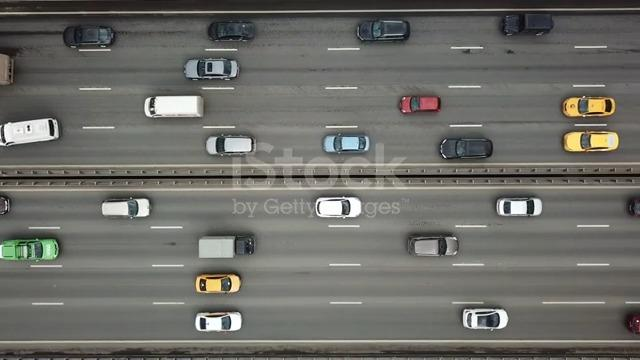Cars: (1, 118, 60, 148), (144, 95, 205, 119), (1, 238, 60, 261), (184, 57, 240, 81), (563, 130, 620, 153), (501, 13, 554, 37), (63, 25, 116, 49), (357, 19, 411, 42), (440, 137, 493, 160), (562, 96, 616, 118), (206, 134, 256, 157), (315, 196, 362, 219), (208, 20, 256, 42), (102, 198, 151, 219), (195, 311, 243, 332), (196, 273, 242, 294), (323, 134, 371, 154), (496, 197, 543, 217), (400, 95, 441, 114), (1, 195, 11, 215)
